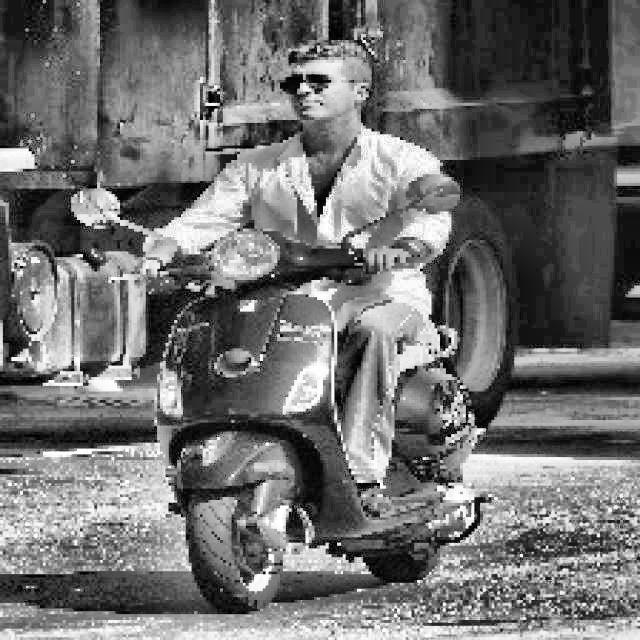motorcycle: (36, 160, 556, 607)
